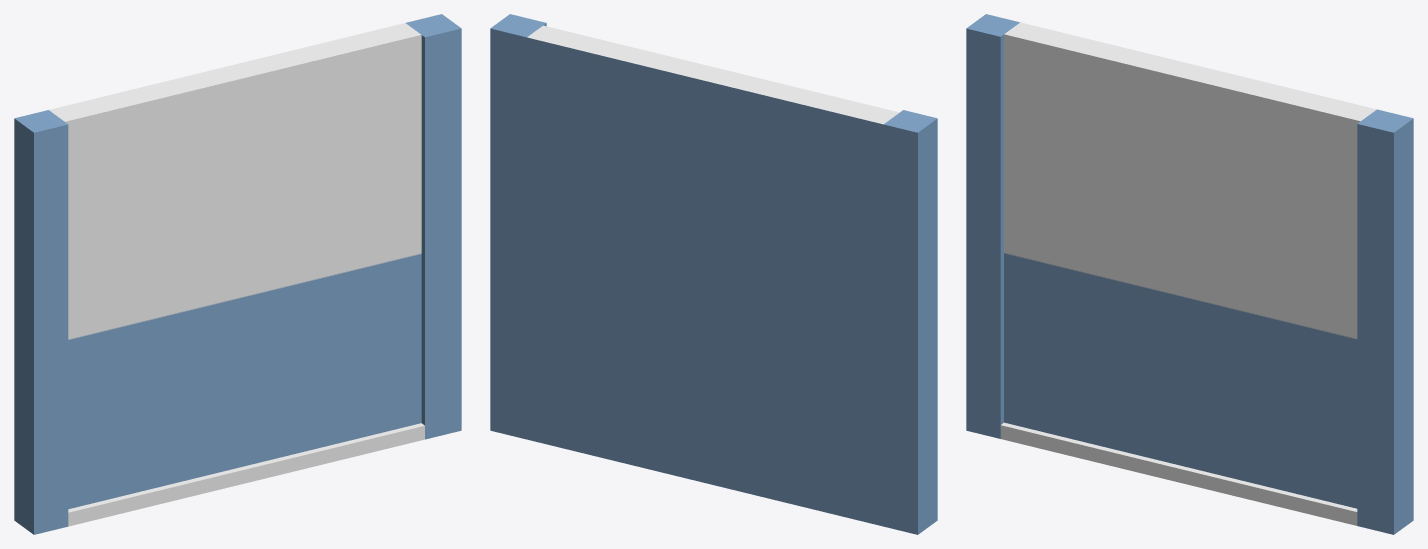
The model's file is Wall 2.fbx.
3 renders of one model, left to right at view 1: azimuth 30°, elevation 25°; view 2: azimuth 150°, elevation 25°; view 3: azimuth 330°, elevation 25°, orthographic.
Parts seen in each view (by area): view 1: wall 2; view 2: wall 2; view 3: wall 2.
Boxes of the visible parts, x1,y1,x2,y2 form: wall 2: [14, 14, 461, 534]; wall 2: [490, 14, 937, 534]; wall 2: [966, 14, 1413, 534].
Size of the model in its own units: 283 by 254 by 22.68.
2 materials, 1 textured.
